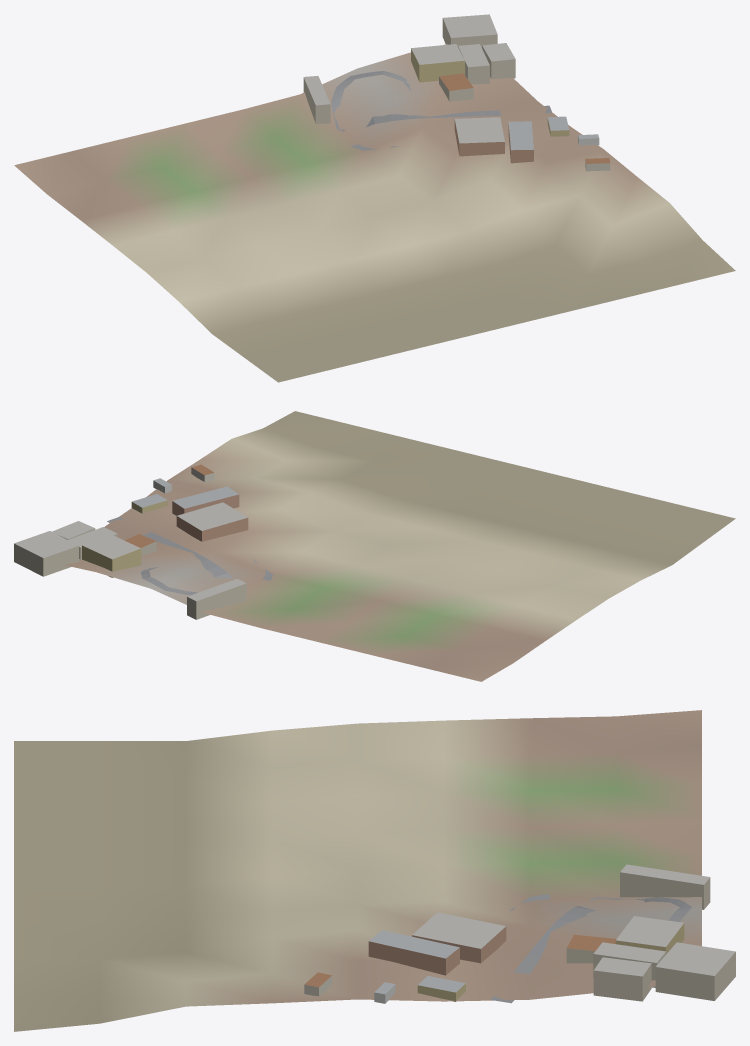
The picture shows the model from 3 angles, top to bottom: view 1: azimuth 30°, elevation 25°; view 2: azimuth 150°, elevation 25°; view 3: azimuth 270°, elevation 25°; orthographic projection. The views are drawn at different scales.
Parts seen in each view (by area): view 1: Lo; view 2: Lo; view 3: Lo.
Boxes of the visible parts, x1,y1,x2,y2 form: Lo: [14, 14, 735, 382]; Lo: [14, 411, 735, 681]; Lo: [14, 710, 735, 1031].
Size of the model in its own units: 269 by 28.84 by 269.
